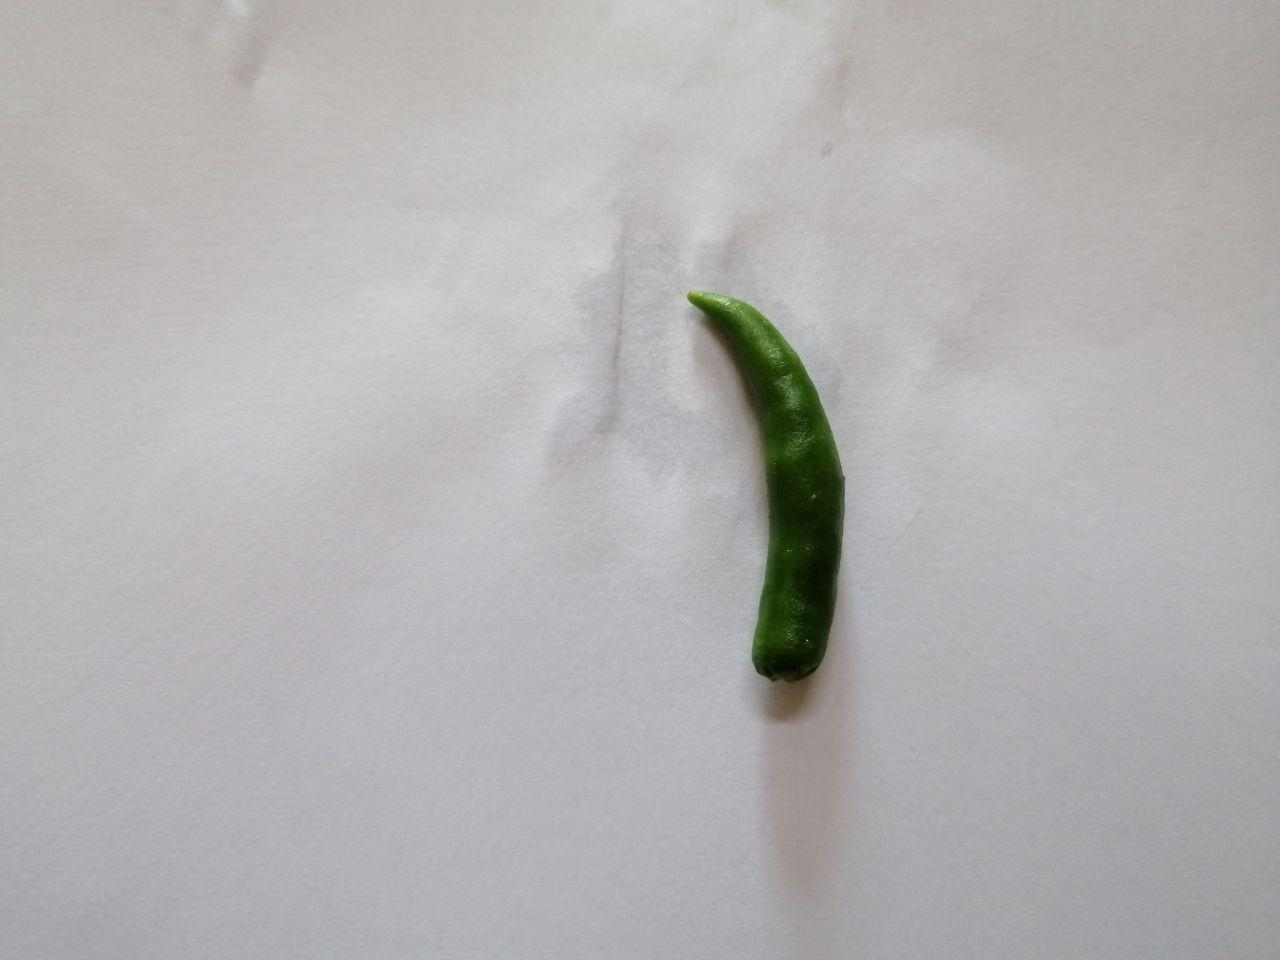lada hijau: (668, 272, 875, 697)
